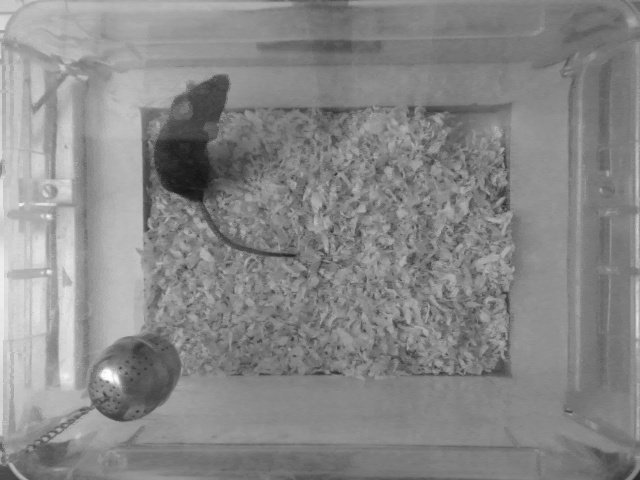mice: (148, 73, 300, 258)
